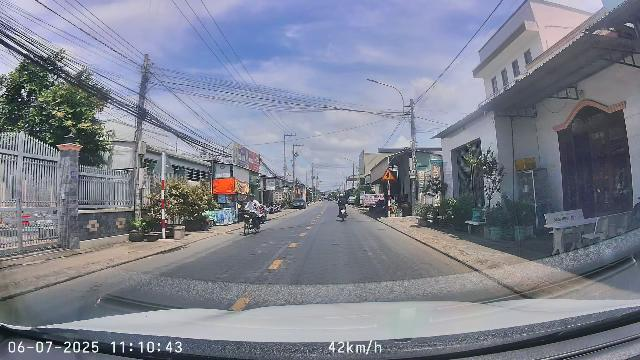207-giao-nhau-voi-duong-khong-uu-tien: (381, 168, 396, 181)
